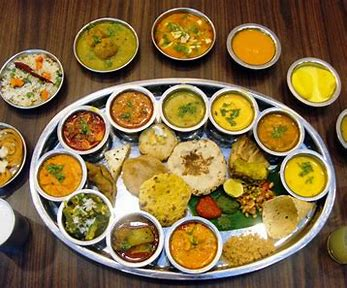inorganic: (7, 61, 50, 94), (225, 182, 257, 220), (84, 32, 128, 58), (162, 23, 205, 49), (184, 146, 212, 182), (265, 202, 299, 229), (151, 183, 181, 209), (178, 235, 210, 257), (239, 37, 272, 57), (235, 147, 261, 171), (229, 236, 263, 253), (296, 165, 321, 186), (301, 72, 328, 91), (119, 99, 146, 118), (125, 230, 147, 252), (270, 123, 291, 146), (223, 102, 248, 121), (94, 171, 119, 190), (71, 122, 100, 138), (74, 206, 95, 228), (2, 135, 16, 168), (51, 165, 71, 188), (174, 103, 200, 119), (144, 134, 171, 148), (131, 161, 162, 173), (109, 147, 119, 167), (197, 202, 219, 211), (1, 210, 7, 228), (344, 121, 347, 129)
organic: (43, 77, 322, 278), (65, 18, 149, 73), (3, 52, 62, 107), (154, 9, 216, 60), (293, 50, 340, 108), (231, 18, 283, 69), (3, 120, 27, 186), (0, 203, 29, 246), (330, 227, 347, 260), (336, 114, 347, 148)
